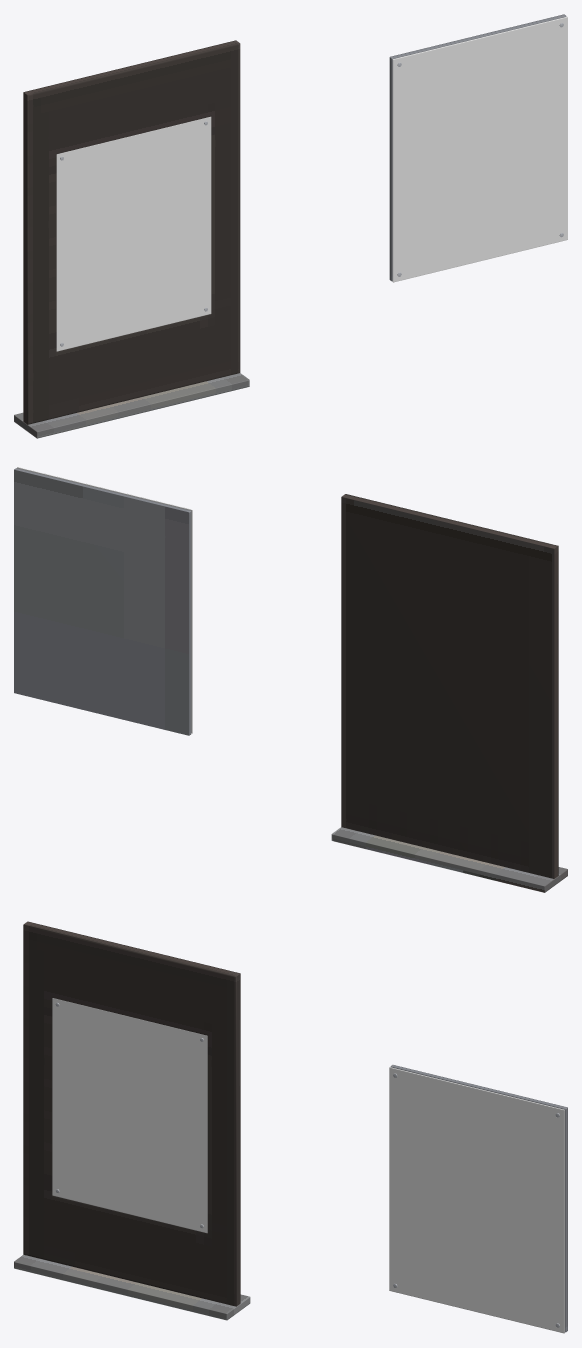
The model's file is a_com_building_b01_tenantsign01.gltf.
3 renders of one model, top to bottom at view 1: azimuth 30°, elevation 25°; view 2: azimuth 150°, elevation 25°; view 3: azimuth 330°, elevation 25°, orthographic.
Visible parts, largest first — view 1: um_a_com_building_b01_tenantsign01_model_a_com_building_b01_ (×2); view 2: um_a_com_building_b01_tenantsign01_model_a_com_building_b01_ (×2); view 3: um_a_com_building_b01_tenantsign01_model_a_com_building_b01_ (×2).
Part boxes in pixels (bbox=[...]): um_a_com_building_b01_tenantsign01_model_a_com_building_b01_ (×2): bbox=[14, 14, 567, 438]; um_a_com_building_b01_tenantsign01_model_a_com_building_b01_ (×2): bbox=[14, 467, 567, 892]; um_a_com_building_b01_tenantsign01_model_a_com_building_b01_ (×2): bbox=[14, 921, 567, 1333].
Size of the model in its own units: 3.55 by 2.11 by 0.2622.
Materials: 2 (2 with a texture image).
